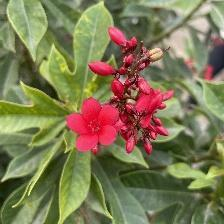jatropha: (64, 95, 121, 155)
